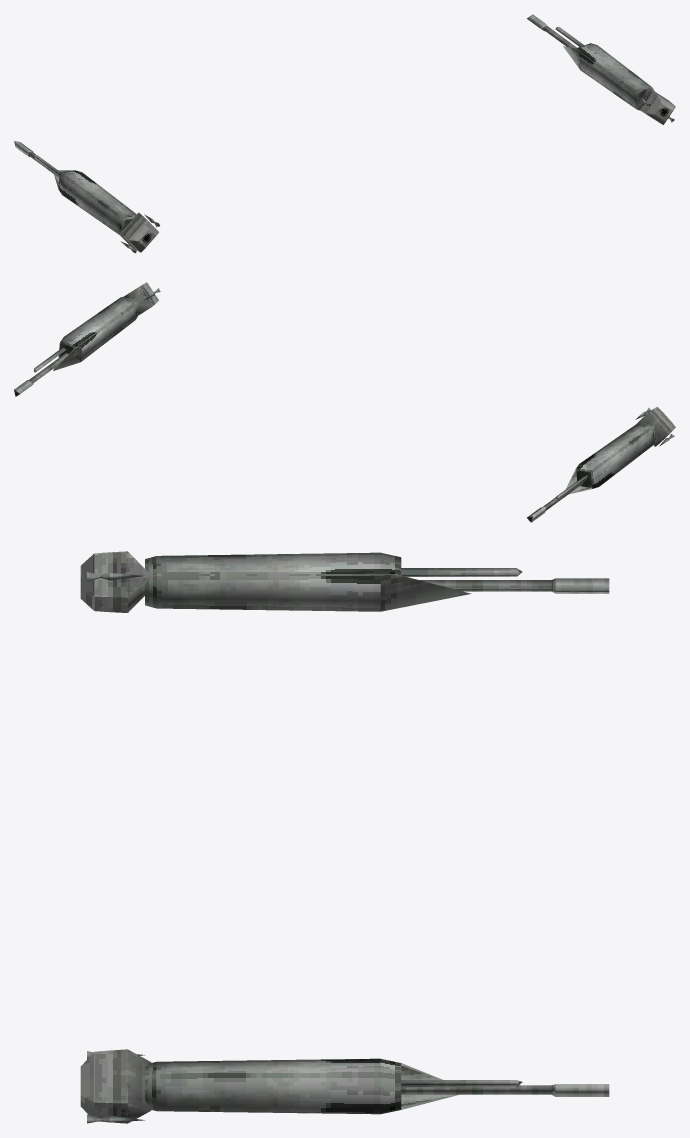
File: hutt_fighter_medium_weapon1_s03_l2.fbx
The picture shows the model from 3 angles, top to bottom: view 1: azimuth 30°, elevation 25°; view 2: azimuth 150°, elevation 25°; view 3: azimuth 270°, elevation 25°; orthographic projection. The views are drawn at different scales.
Visible parts, largest first — view 1: mesh_node; view 2: mesh_node; view 3: mesh_node.
Part boxes in pixels (x1,y1,x2,y2): mesh_node: [14, 14, 675, 253]; mesh_node: [14, 282, 675, 522]; mesh_node: [80, 551, 609, 1123].
Size of the model in its own units: 13.7 by 0.8098 by 5.7.
